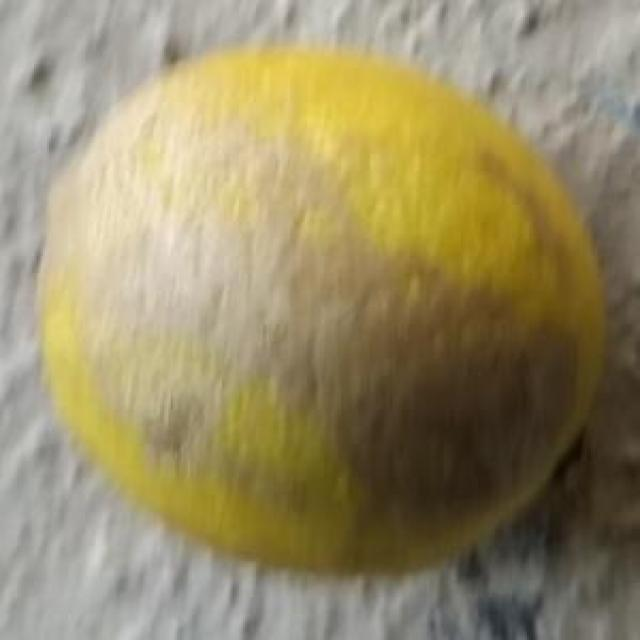lemon: (39, 33, 606, 581)
